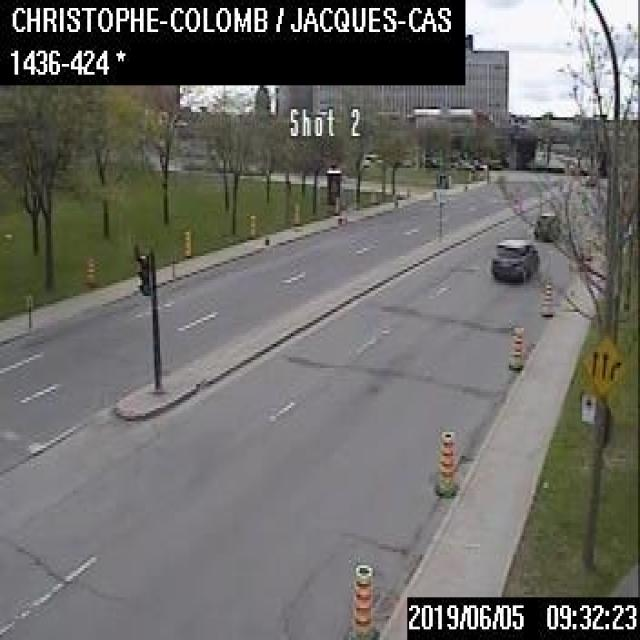construction: (345, 560, 378, 637), (433, 427, 455, 496), (506, 320, 524, 369), (538, 274, 552, 318), (85, 253, 95, 284), (182, 227, 191, 256), (292, 200, 300, 224), (248, 212, 255, 235)
vehicle: (491, 235, 538, 282), (532, 210, 560, 240), (454, 159, 473, 169), (424, 154, 438, 164), (472, 158, 486, 168)
